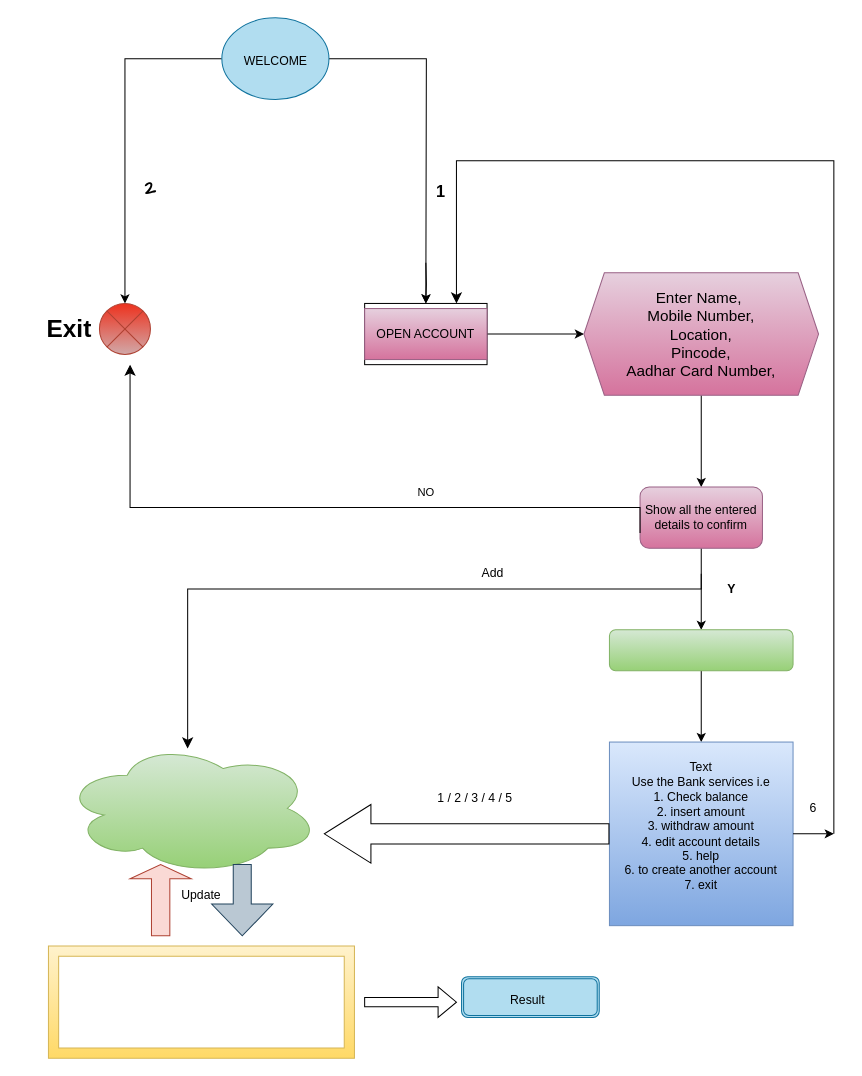
Image size: 862x1076. Some labels were removed from this diagram. Each missing label, with the box of its shape:
Add all entered details inside the list: (62, 741, 319, 875)
Do the respective Operation: (47, 945, 354, 1058)
Enter Account Number: (608, 629, 793, 671)
